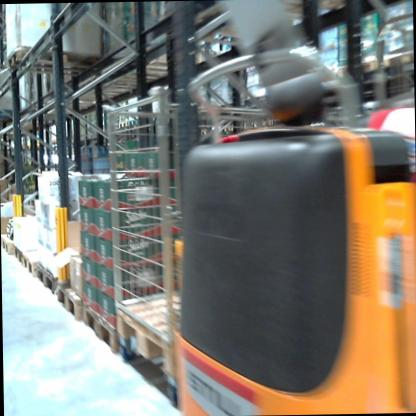pallet: (112, 287, 186, 382), (8, 40, 116, 75), (80, 290, 115, 367), (56, 276, 79, 340), (36, 253, 55, 297), (1, 234, 23, 256), (20, 252, 34, 272), (127, 116, 141, 132), (116, 115, 127, 133), (13, 243, 20, 259)
pallet_truck: (169, 0, 416, 413)
